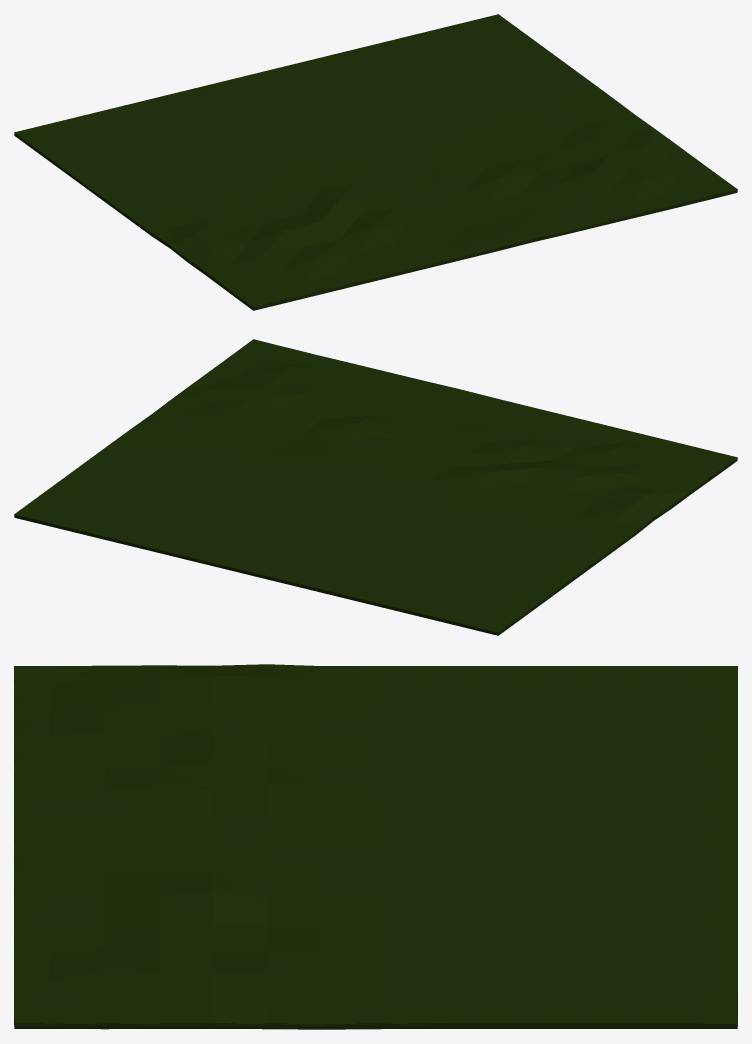
File: School_Ground.fbx
The picture shows the model from 3 angles, top to bottom: view 1: azimuth 30°, elevation 25°; view 2: azimuth 150°, elevation 25°; view 3: azimuth 270°, elevation 25°; orthographic projection. The views are drawn at different scales.
Visible parts, largest first — view 1: UV_Ground; view 2: UV_Ground; view 3: UV_Ground.
Part boxes in pixels (bbox=[...]): UV_Ground: bbox=[14, 14, 737, 310]; UV_Ground: bbox=[14, 339, 737, 635]; UV_Ground: bbox=[14, 664, 737, 1029].
Size of the model in its own units: 289 by 5.5 by 247.
